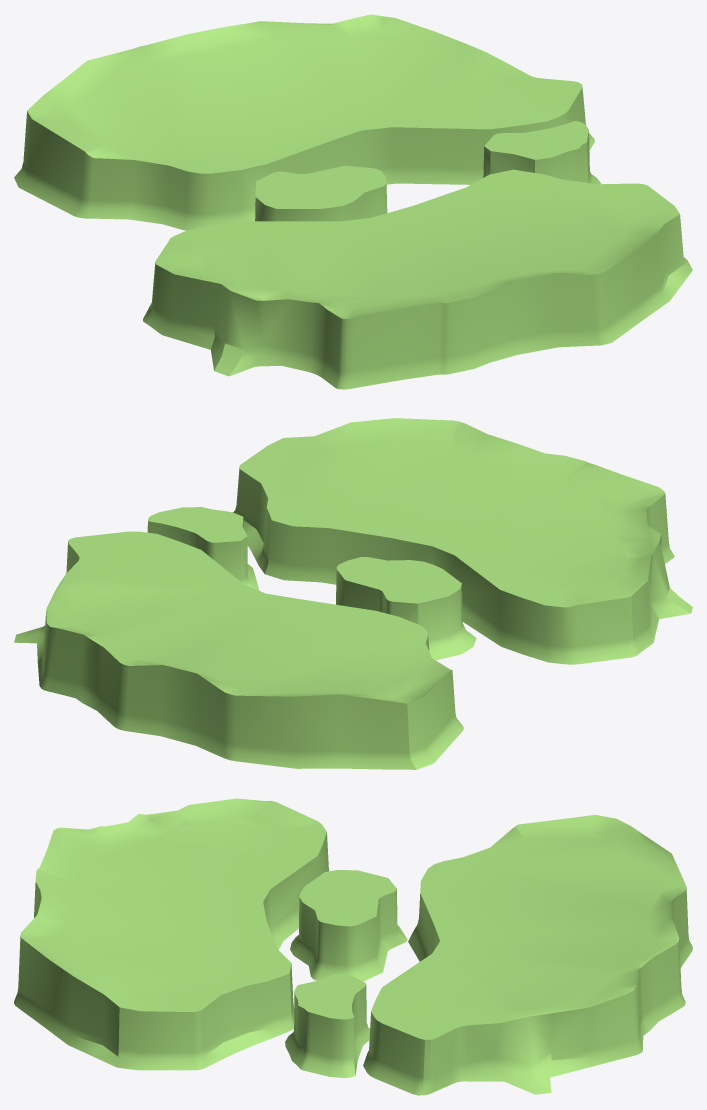
The model's file is Islands.fbx.
3 views of the same model, one above another, from view 1: azimuth 30°, elevation 25°; view 2: azimuth 150°, elevation 25°; view 3: azimuth 270°, elevation 25° (orthographic). The views are drawn at different scales.
Parts seen in each view (by area): view 1: Islands; view 2: Islands; view 3: Islands.
Part boxes in pixels (box(x1,y1,x2,y2)): Islands: box(14, 14, 692, 389); Islands: box(14, 418, 692, 769); Islands: box(14, 798, 692, 1095).
Size of the model in its own units: 64.92 by 7.83 by 55.11.
